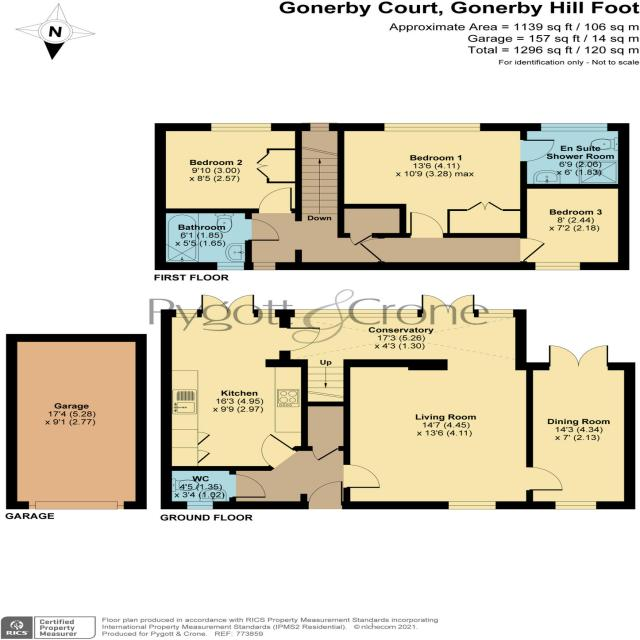DOOR: (258, 430, 302, 471), (277, 326, 325, 353), (305, 479, 344, 511), (341, 463, 386, 490), (523, 465, 567, 492), (409, 210, 446, 240), (243, 217, 282, 243), (257, 187, 293, 215), (518, 138, 557, 163), (356, 238, 387, 263), (518, 238, 548, 263)
DOUBLE DOOR: (547, 343, 610, 370), (200, 293, 255, 316)
ROOM: (340, 358, 568, 511), (159, 291, 323, 471), (336, 122, 557, 239), (525, 343, 637, 511), (153, 122, 303, 214), (518, 183, 631, 270)
WINDOW: (292, 307, 421, 319), (383, 122, 481, 133), (540, 122, 610, 133), (210, 122, 273, 133), (446, 500, 498, 512), (533, 261, 582, 272), (553, 500, 599, 511), (476, 308, 515, 319), (215, 261, 246, 272), (184, 500, 215, 511), (173, 308, 201, 319), (251, 261, 278, 272), (255, 308, 279, 320), (308, 121, 331, 133)
